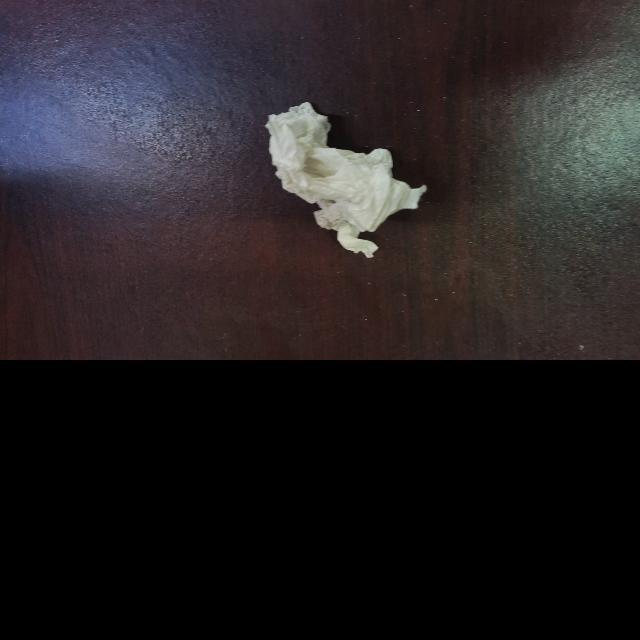kitchen paper: (257, 96, 435, 266)
